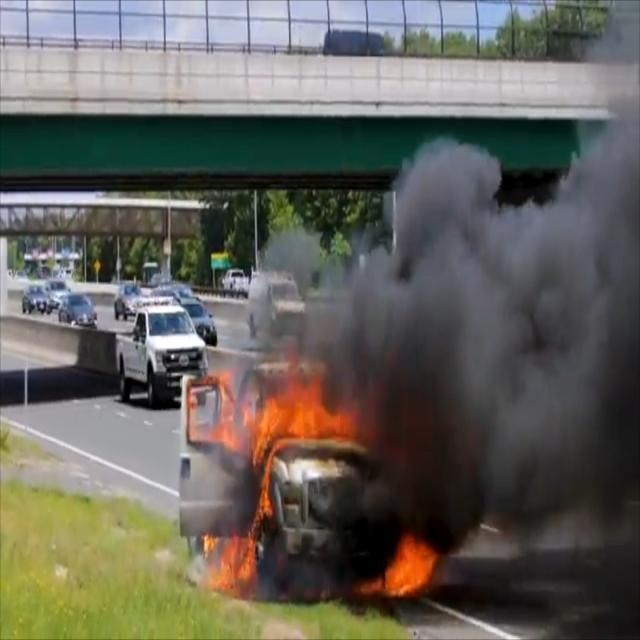fire: (185, 363, 442, 601)
